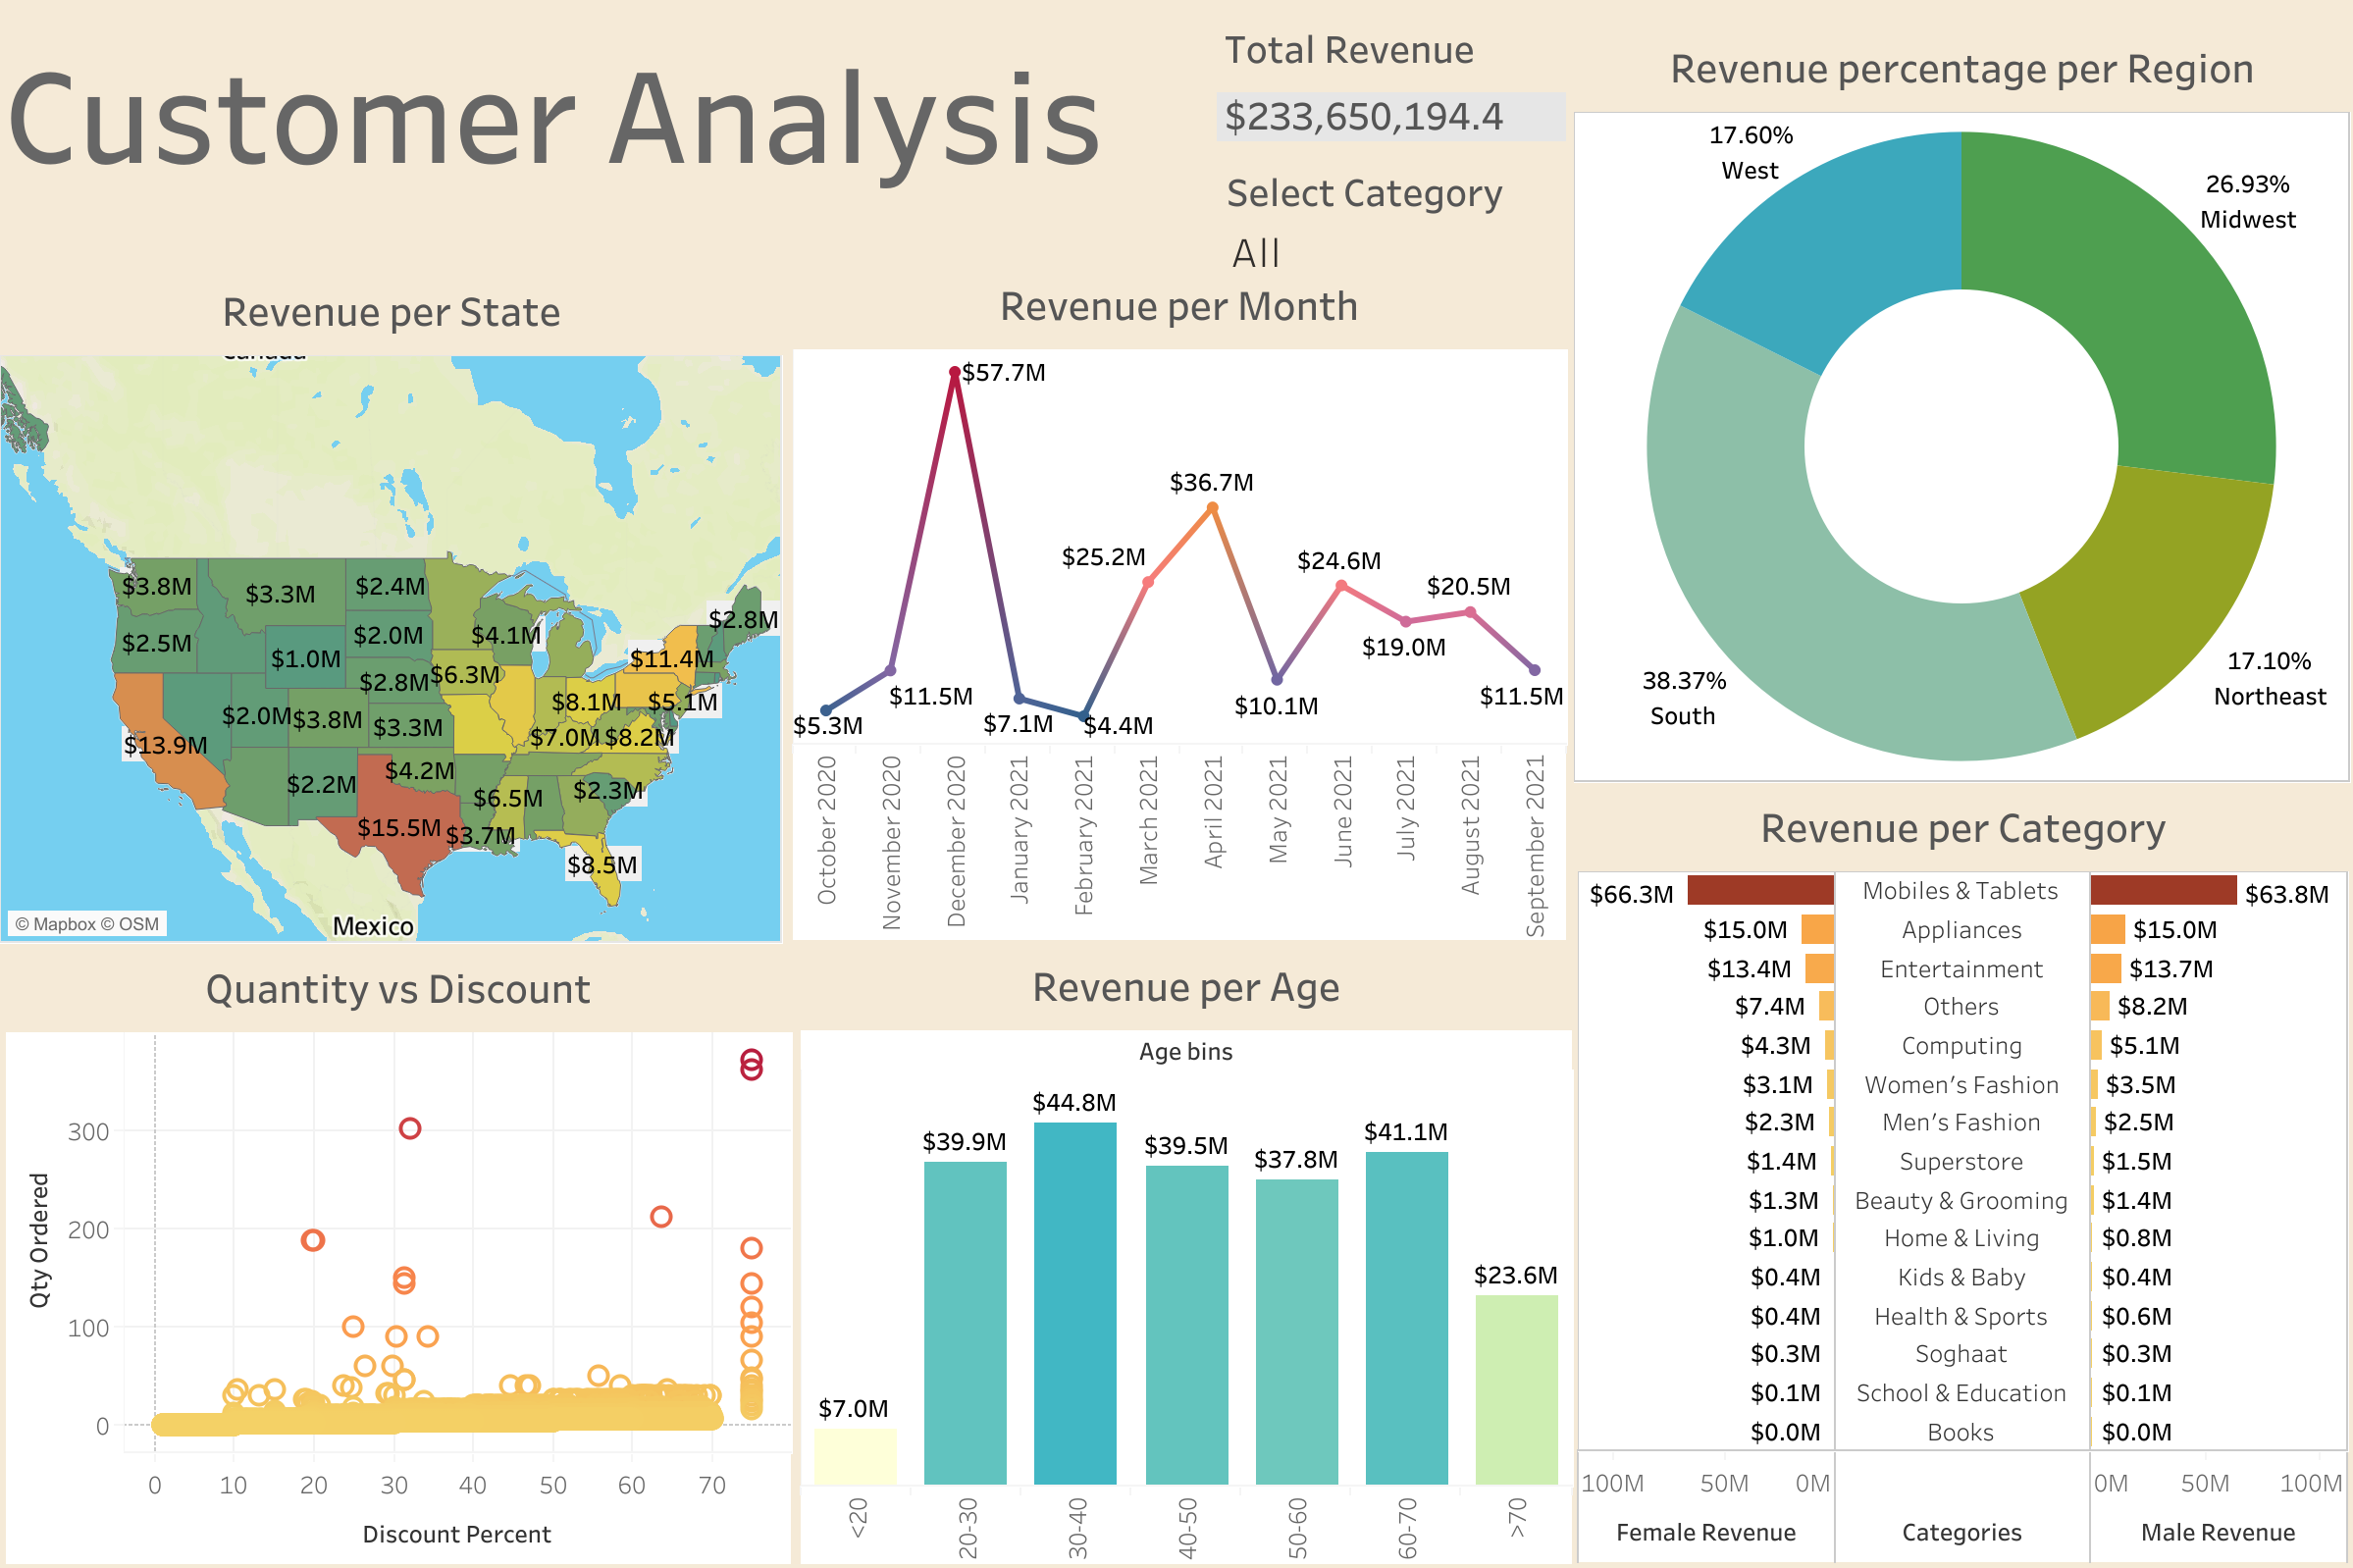

Layout of this report page (visuals, bound fields, positions):
{"tool":"tableau","page":{"name":"Dashboard 1","canvas":[1200,800],"ordinal":0},"visuals":[{"type":"worksheet","title":"Total Revenue","mark":"Automatic","box":[620,5,177,66]},{"type":"worksheet","title":"Revenue percentage per Region","mark":"Pie","rows":["Calculation_6038341995886505984","Calculation_6038341995886505984"],"box":[802,14,400,385]},{"type":"filter","title":"Revenue per Category","param":"[federated.01mks3a10o761214gvlvw1ufzxsq].[none:category:nk]","box":[625,83,160,53]},{"type":"worksheet","title":"Revenue per Month","mark":"Automatic","rows":["total"],"cols":["month"],"box":[404,135,394,344]},{"type":"worksheet","title":"Revenue per State","mark":"Automatic","box":[0,138,399,343]},{"type":"worksheet","title":"Revenue per Category","mark":"Automatic","rows":["category"],"cols":["Calculation_6038341995888418817","Calculation_6038341995886505984","Calculation_6038341995888689154"],"box":[804,401,395,396]},{"type":"worksheet","title":"Revenue per Age","mark":"Automatic","rows":["total"],"cols":["Age (bin)"],"box":[408,482,393,315]},{"type":"worksheet","title":"Quantity vs Discount","mark":"Automatic","rows":["qty_ordered"],"cols":["Discount_Percent"],"box":[3,483,400,314]}]}

Visuals, with their boxes in screenshot pixels (x1, y1, x2, y2), scaled from the page's 1200x800 canvas onto the 2353x1568 screenshot:
"Total Revenue" worksheet: x1=1216, y1=10, x2=1563, y2=139
"Revenue percentage per Region" worksheet (Pie marks): x1=1573, y1=27, x2=2352, y2=782
"Revenue per Category" filter: x1=1226, y1=163, x2=1540, y2=267
"Revenue per Month" worksheet: x1=792, y1=265, x2=1565, y2=939
"Revenue per State" worksheet: x1=0, y1=271, x2=782, y2=943
"Revenue per Category" worksheet: x1=1577, y1=786, x2=2351, y2=1562
"Revenue per Age" worksheet: x1=800, y1=945, x2=1571, y2=1562
"Quantity vs Discount" worksheet: x1=6, y1=947, x2=790, y2=1562
